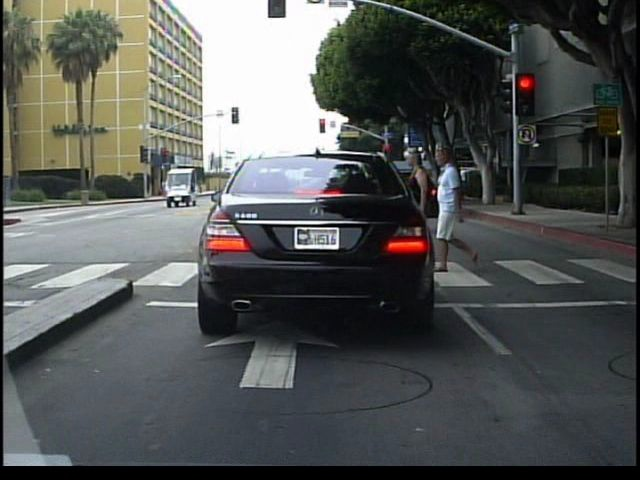person: (434, 141, 486, 279), (397, 142, 440, 265)
